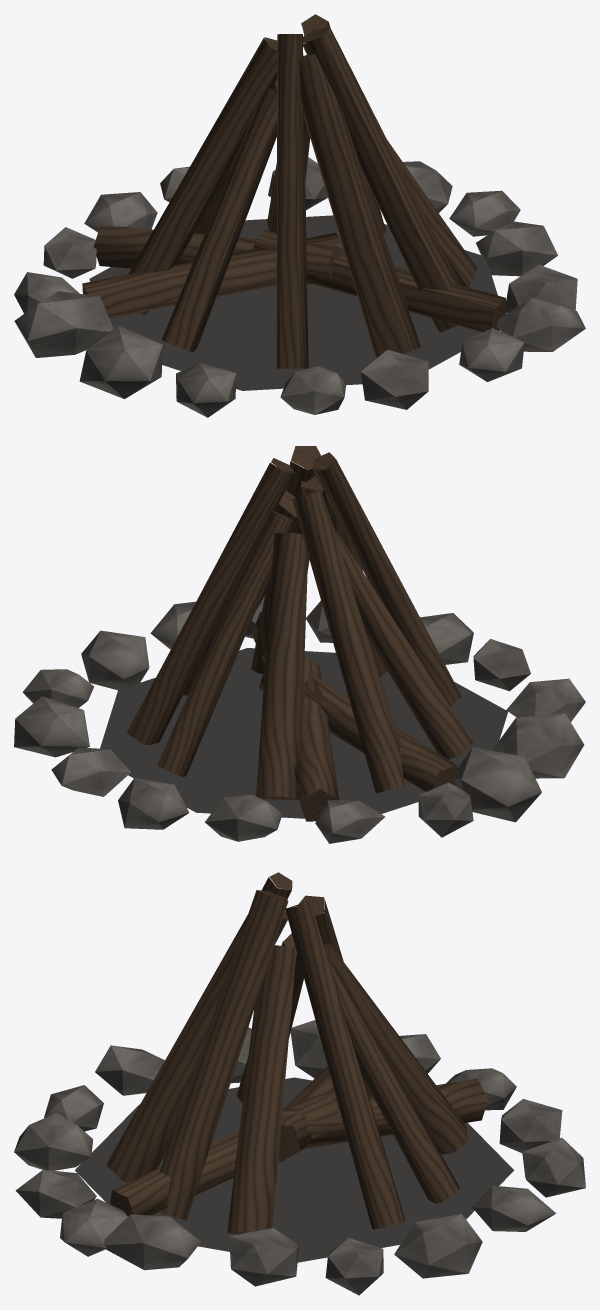
Rendered from bonfire_L0.glb.
The picture shows the model from 3 angles, top to bottom: view 1: azimuth 30°, elevation 25°; view 2: azimuth 150°, elevation 25°; view 3: azimuth 270°, elevation 25°; orthographic projection. The views are drawn at different scales.
Parts seen in each view (by area): view 1: logs:bark, stones:stone, ash; view 2: logs:bark, stones:stone, ash; view 3: logs:bark, stones:stone, ash.
Part boxes in pixels (left/top/right/bottom): logs:bark: left=82, top=14, right=506, bottom=368; stones:stone: left=14, top=157, right=585, bottom=417; ash: left=89, top=215, right=497, bottom=390; logs:bark: left=127, top=446, right=473, bottom=821; stones:stone: left=14, top=595, right=585, bottom=843; ash: left=100, top=648, right=507, bottom=818; logs:bark: left=106, top=872, right=488, bottom=1234; stones:stone: left=14, top=1020, right=585, bottom=1295; ash: left=75, top=1077, right=514, bottom=1262.
Bounding box in the file's own units: 2.15 × 1.21 × 2.08.
Materials: 3 (2 with a texture image).
